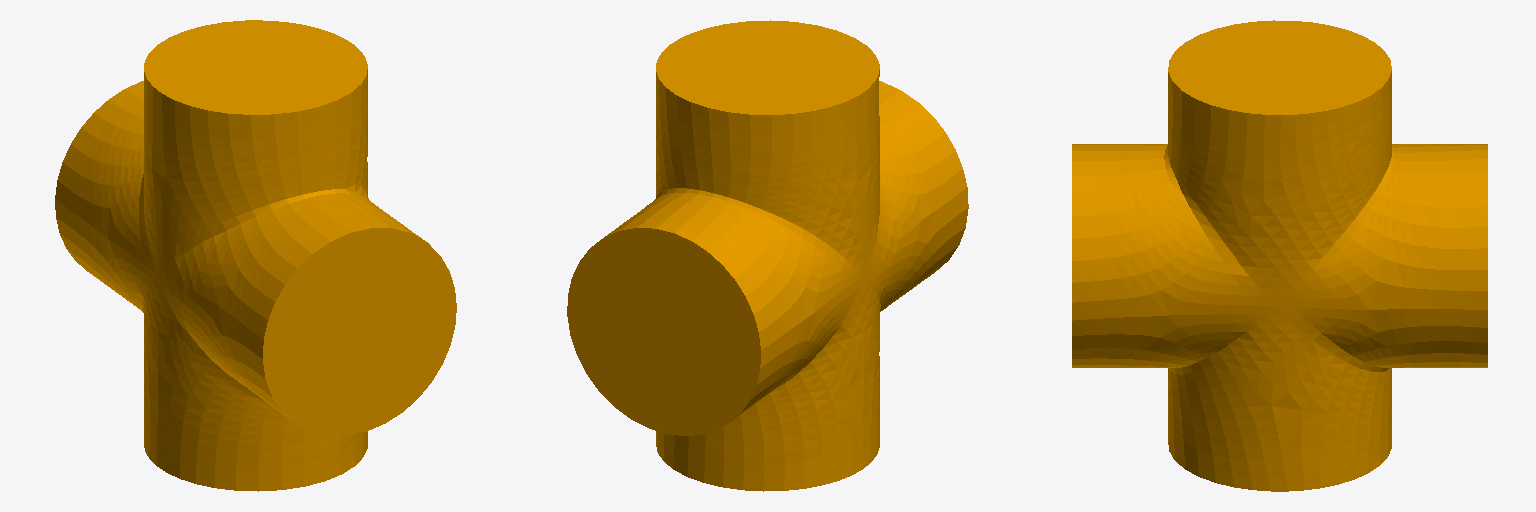
The robot description file, URDF, robot "object":
<robot name="object">
  <link name="object">
    <visual>
      <origin xyz="0 0 0"/>
      <geometry>
        <mesh filename="visual.obj" scale="1 1 1"/>
      </geometry>
    </visual>
    <collision>
      <origin xyz="0 0 0"/>
      <geometry>
        <mesh filename="visual.obj" scale="1 1 1"/>
      </geometry>
    </collision>
    <inertial>
      <mass value="0.05"/>
      <inertia ixx="5.525919372964296e-05" iyy="3.647005918842326e-05" izz="3.6463077485884936e-05" ixy="1.681079665850235e-09" ixz="3.2204470188438124e-10" iyz="-8.973201966630753e-10"/>
    </inertial>
  </link>
</robot>

--- Render facts (derived) ---
3 views of the same robot in one strip: view 1: azimuth 30°, elevation 25°; view 2: azimuth 150°, elevation 25°; view 3: azimuth 270°, elevation 25° (orthographic).
Robot: object — 1 links, 0 joints (none); root link object; default pose: every joint at zero.
Visible links, largest first — view 1: object; view 2: object; view 3: object.
Boxes of the visible links, left/top/right/bottom form: object: left=55, top=20, right=456, bottom=491; object: left=567, top=20, right=968, bottom=491; object: left=1072, top=20, right=1487, bottom=491.
Size in the robot's own frame: 0.0519 by 0.096 by 0.096 metres.
Meshes: 1 distinct files referenced, 1 mesh visuals loaded (1 OBJ).
